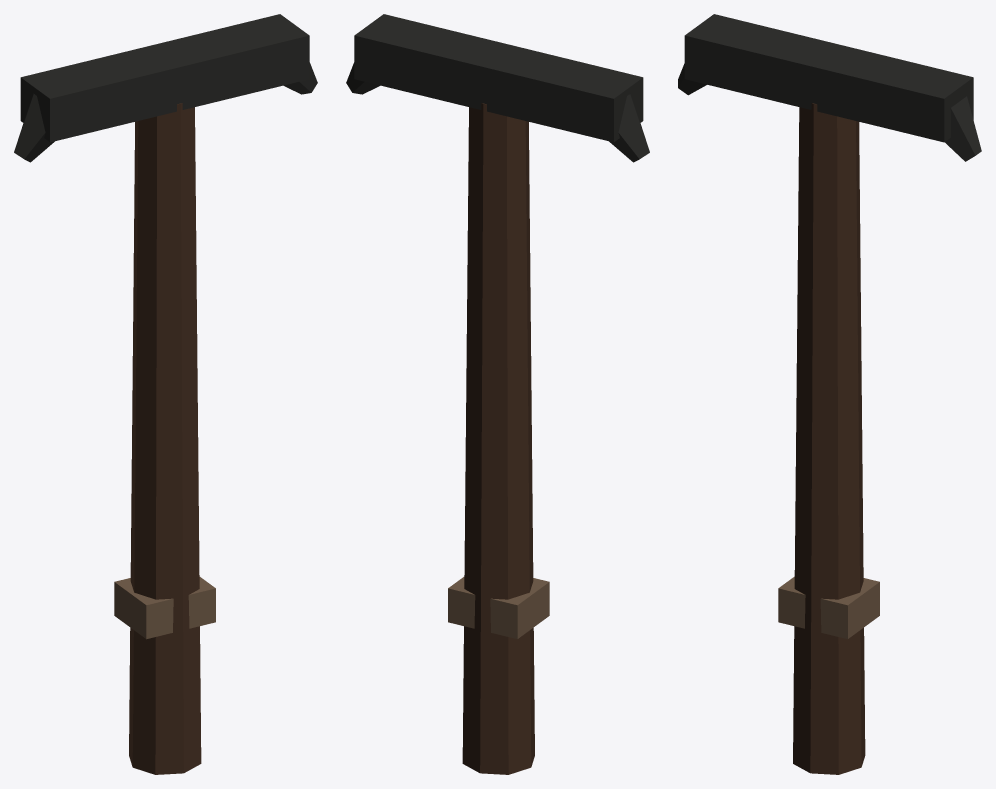
The model's file is war_staff.obj.
The picture shows the model from 3 angles, left to right: view 1: azimuth 30°, elevation 25°; view 2: azimuth 150°, elevation 25°; view 3: azimuth 330°, elevation 25°; orthographic projection.
Parts seen in each view (by area): view 1: war_staff; view 2: war_staff; view 3: war_staff.
Part boxes in pixels (bbox=[...]): war_staff: bbox=[14, 14, 317, 774]; war_staff: bbox=[346, 14, 649, 774]; war_staff: bbox=[678, 14, 981, 774].
Size of the model in its own units: 1.3 by 2.9 by 0.28.
